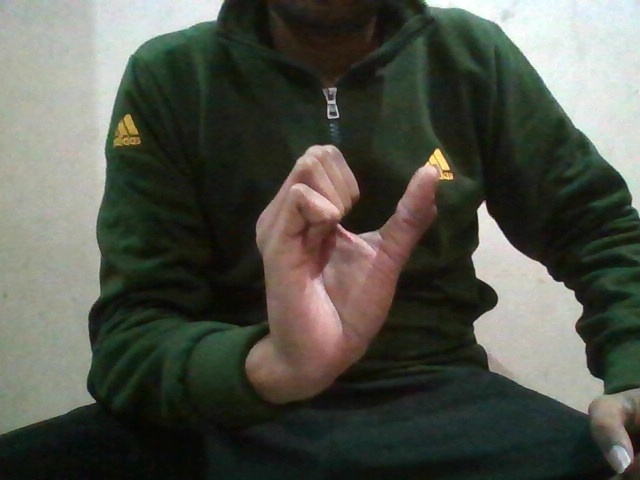S: (254, 139, 441, 387)
